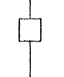Cable Termination Box: (13, 13, 50, 49)
